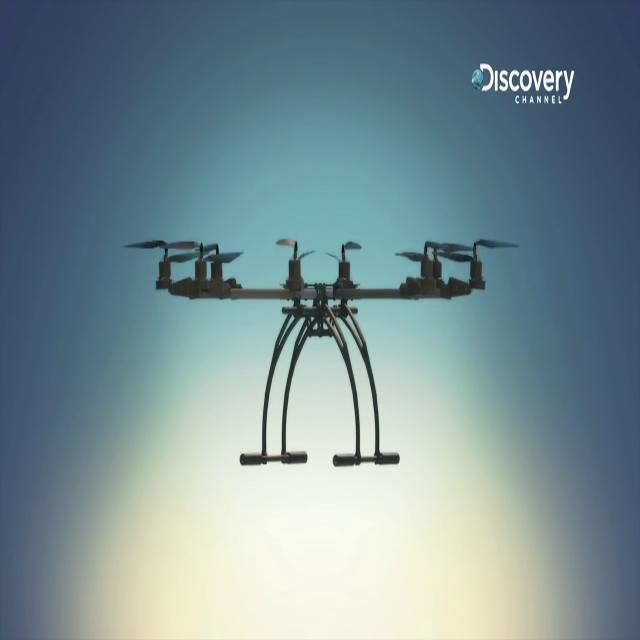drone: (145, 206, 492, 502)
